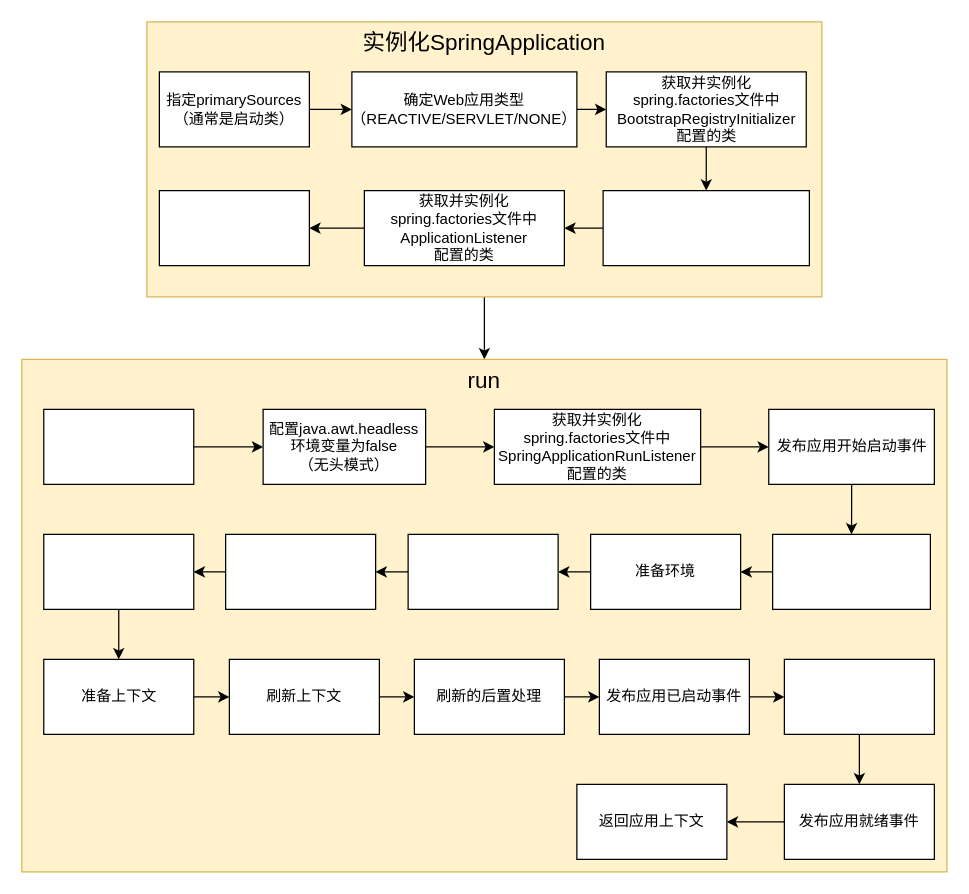
The diagram is 969 pixels wide and 894 high, and some of its shapes have lost their labels. Each missing label, with the centre of its shape:
创建 ApplicationContext （应用上下文）: the point at 118,571
创建引导上下文: the point at 118,446
封装args （命令行参数）: the point at 850,571
打印banner: the point at 300,571
获取main方法所属类: the point at 233,227
获取并实例化 spring.factories文件中ApplicationContextInitializer 配置的类: the point at 705,227
调用 ApplicationRunner CommandLineRunner 的run方法: the point at 858,696
配置忽略Bean信息环境变量: the point at 482,571
